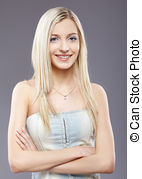face: (33, 8, 92, 75)
